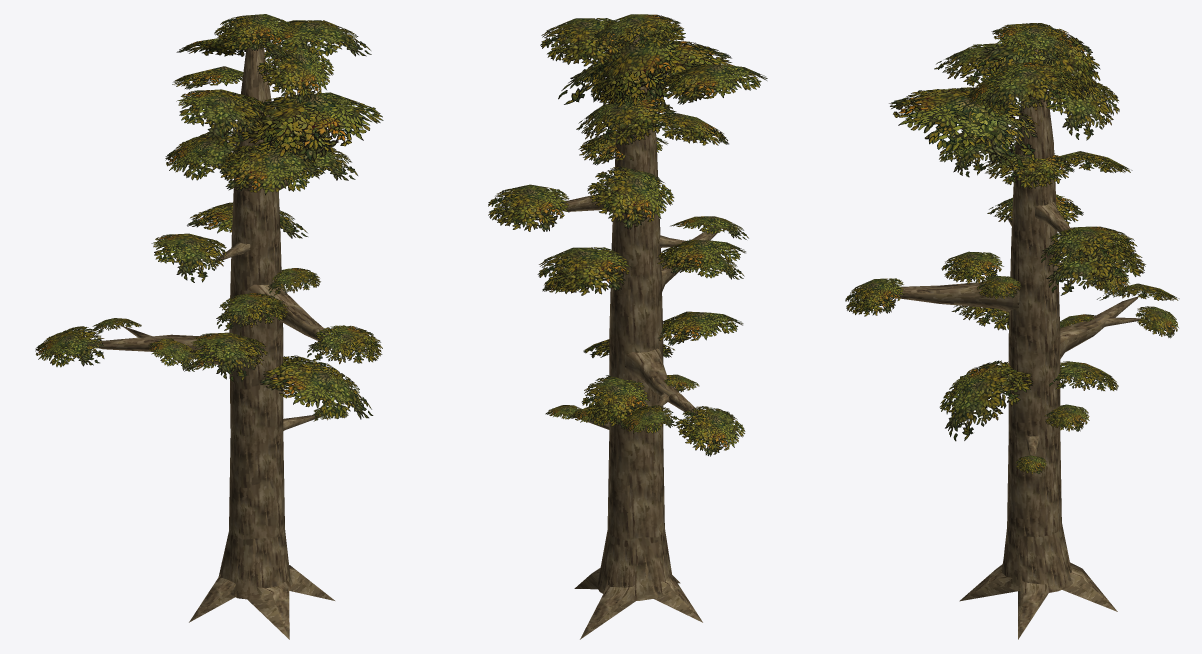
File: BigTree.fbx
3 renders of one model, left to right at view 1: azimuth 30°, elevation 25°; view 2: azimuth 150°, elevation 25°; view 3: azimuth 270°, elevation 25°, orthographic. The views are drawn at different scales.
Parts seen in each view (by area): view 1: MassiveLeaves, MassiveTree; view 2: MassiveLeaves, MassiveTree; view 3: MassiveLeaves, MassiveTree.
Boxes of the visible parts, x1,y1,x2,y2 form: MassiveLeaves: [35, 14, 383, 421]; MassiveTree: [88, 46, 345, 639]; MassiveLeaves: [488, 14, 767, 456]; MassiveTree: [556, 35, 721, 639]; MassiveLeaves: [845, 23, 1179, 474]; MassiveTree: [894, 46, 1146, 639].
Size of the model in its own units: 13052 by 23569 by 13093.
